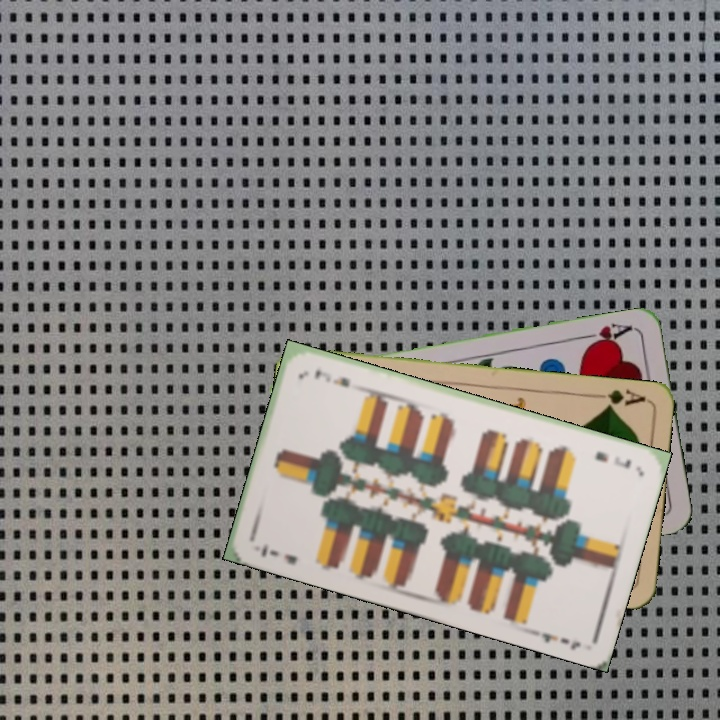E7: (257, 539, 300, 567), (591, 447, 634, 472)
GA: (589, 386, 648, 412)
HA: (579, 319, 638, 350)
